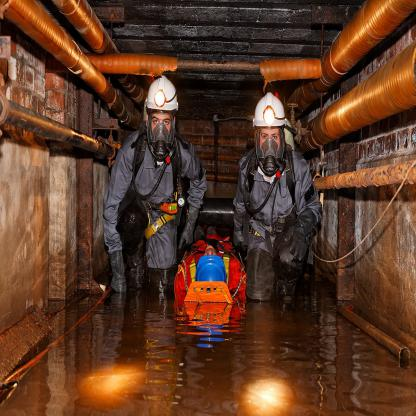helmet: (252, 90, 287, 127), (145, 74, 178, 111), (195, 254, 227, 284)
person: (103, 75, 188, 303), (235, 93, 316, 308)
